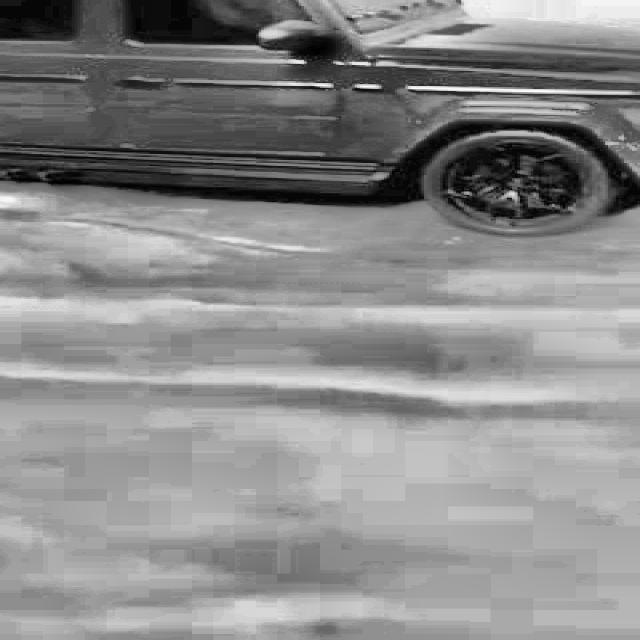light_vehicle: (0, 0, 640, 225)
